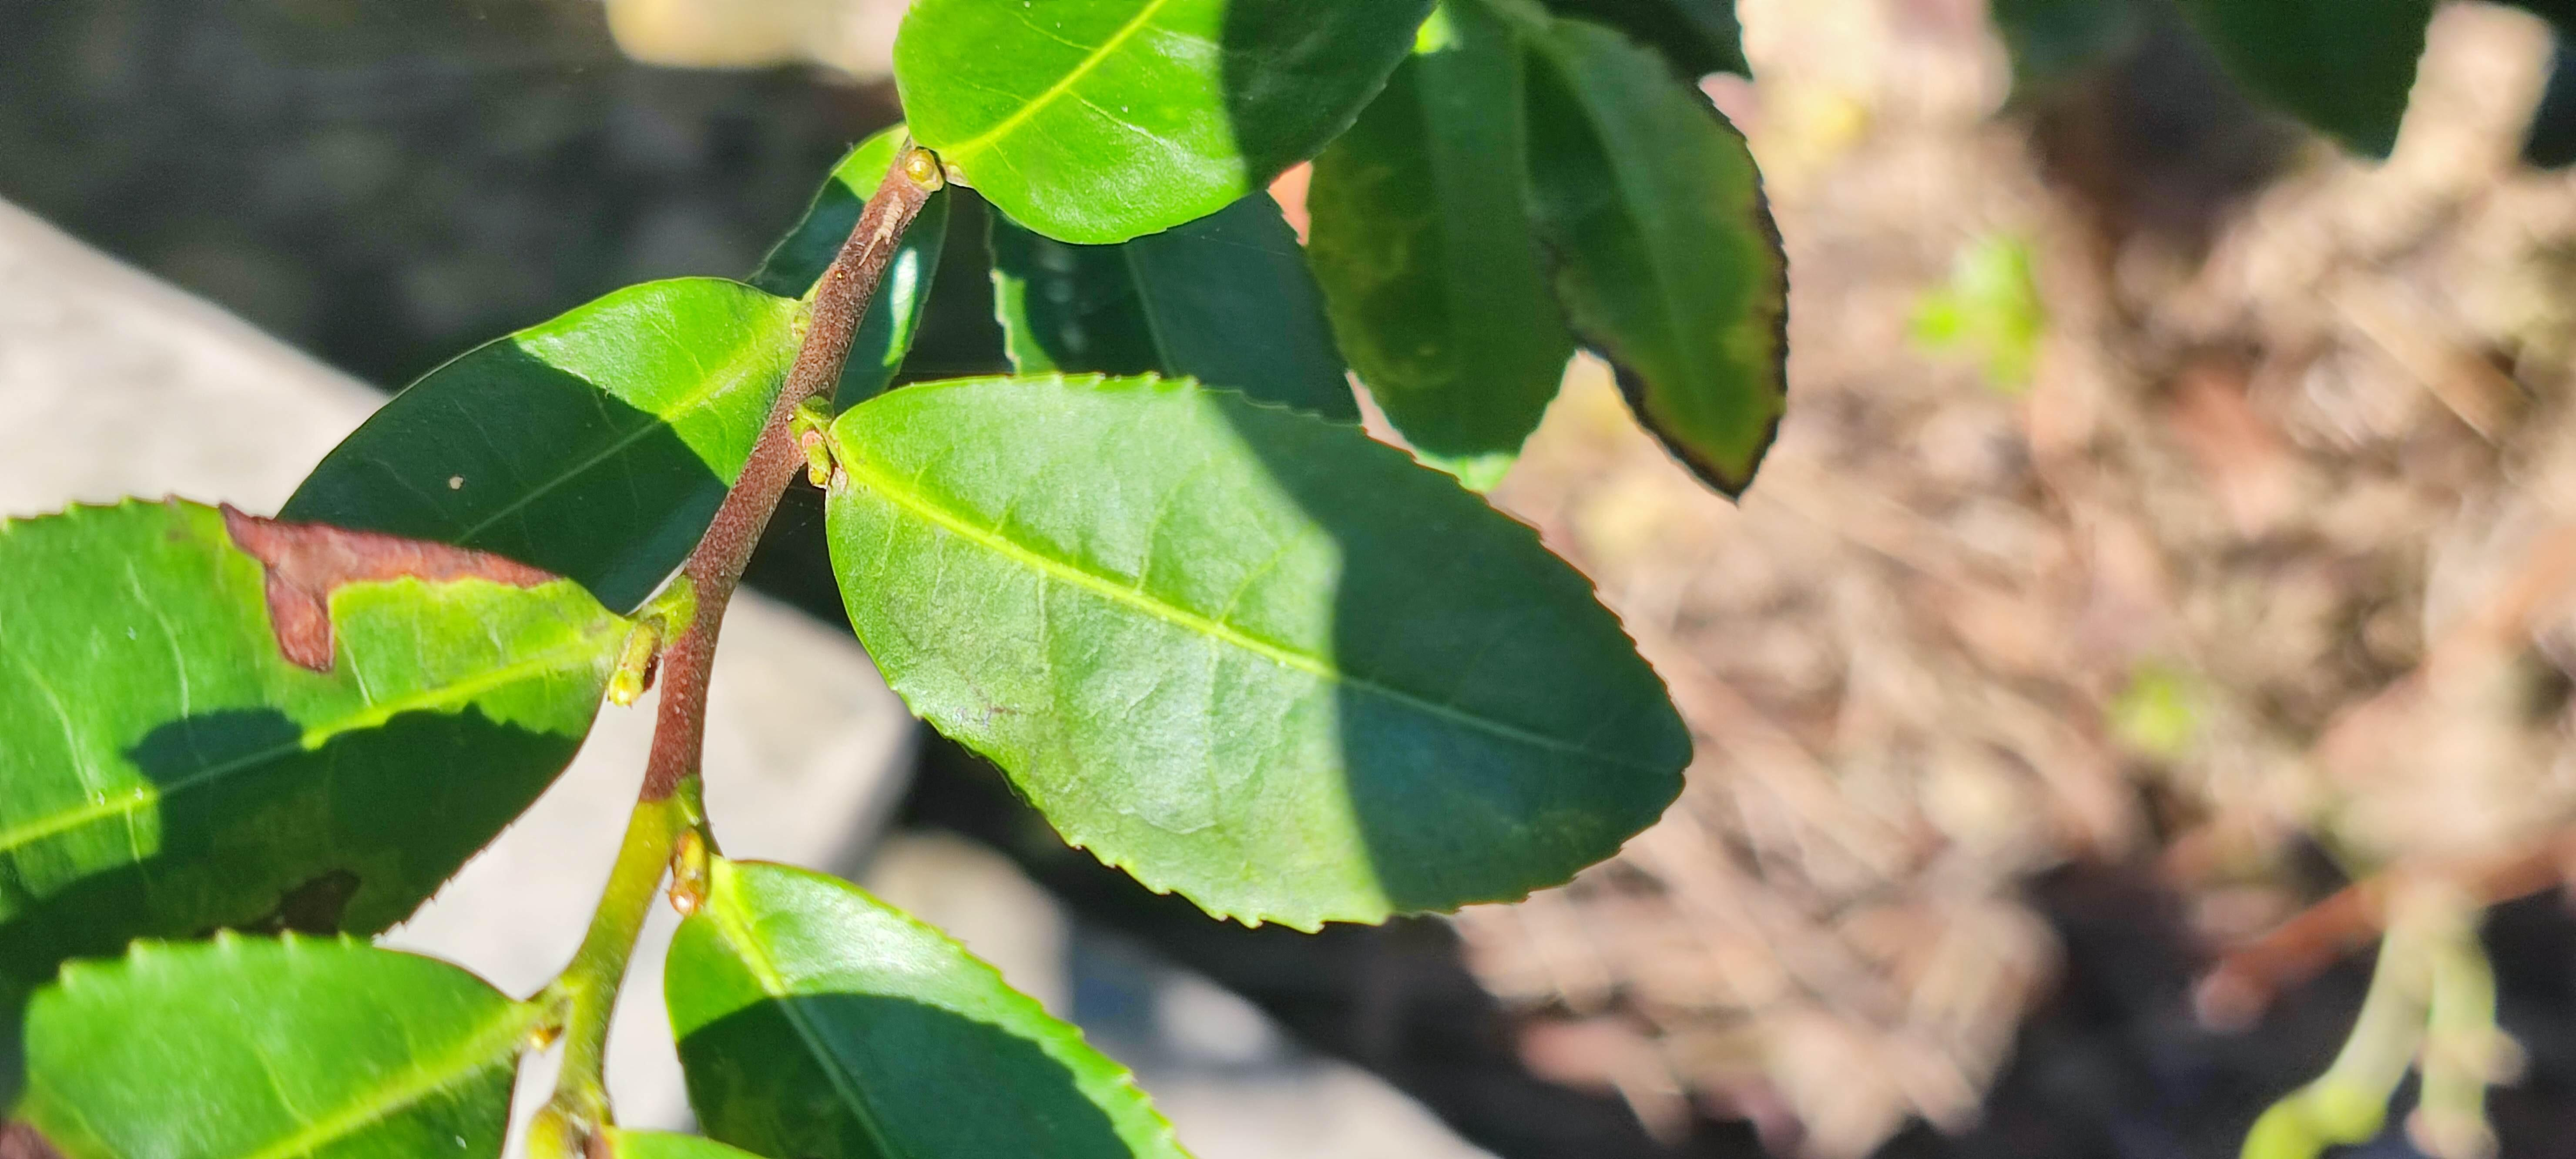healthy: (818, 364, 1699, 937), (662, 854, 1188, 1156)
tanju_high: (2, 491, 646, 937)
tanju_low: (1510, 13, 1796, 514)
